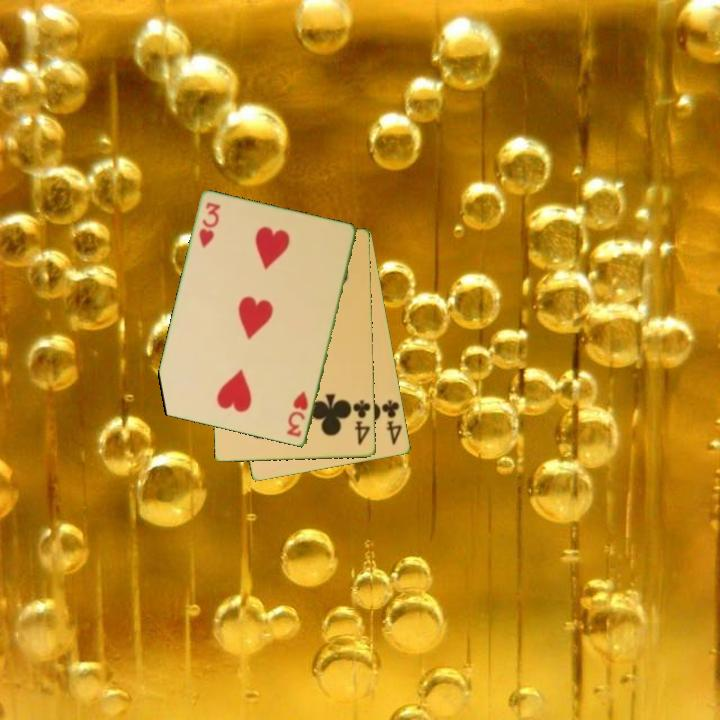3h: (283, 388, 311, 440), (195, 199, 223, 251)
4c: (378, 397, 405, 448), (350, 397, 373, 448)
